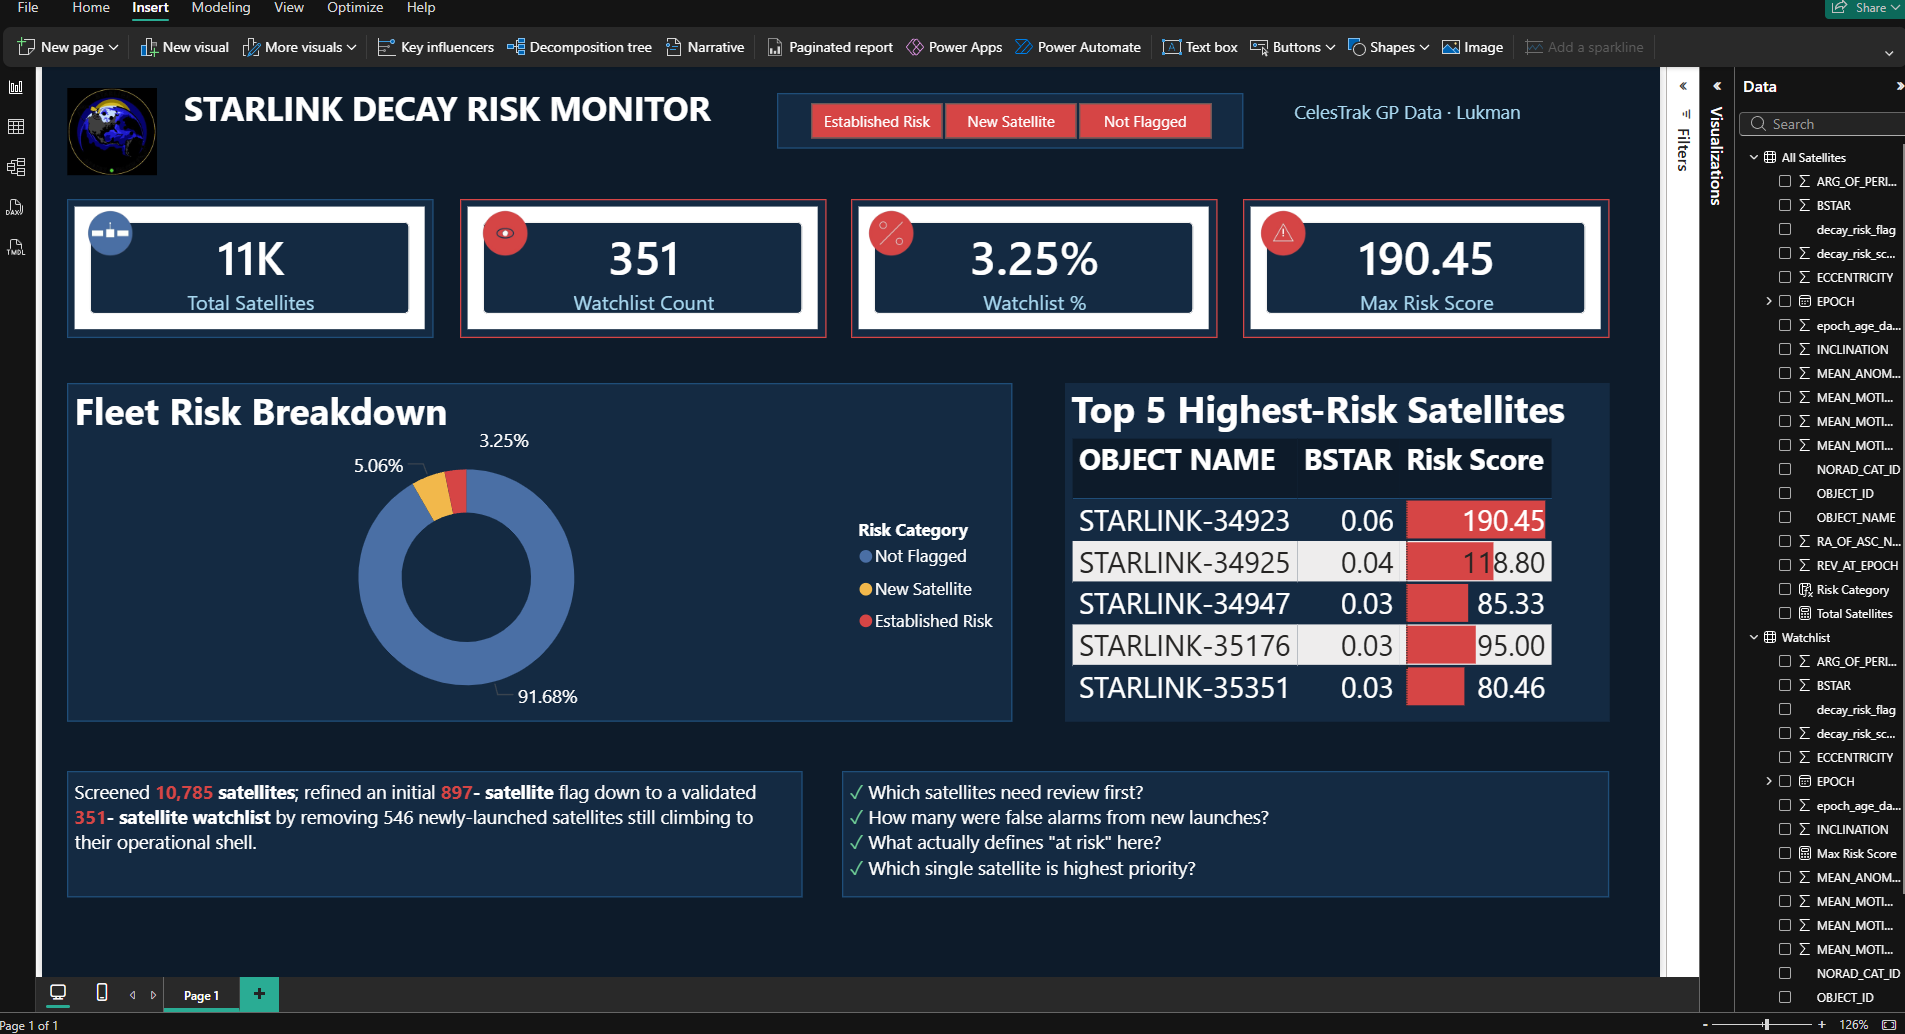

This screenshot's page, from the dashboard's own definition file:
{"tool":"powerbi","page":{"name":"Page 1","canvas":[1280,720],"ordinal":0},"visuals":[{"type":"cardVisual","fields":{"Data":["All Satellites.Total Satellites"]},"box":[19.5,104.1,289.8,109.9],"z":0},{"type":"cardVisual","fields":{"Data":["Watchlist.Watchlist Count"]},"box":[330.7,104.1,289.8,109.9],"z":1000},{"type":"cardVisual","fields":{"Data":["Watchlist.Watchlist %"]},"box":[640,104.1,289.8,109.9],"z":2000},{"type":"cardVisual","fields":{"Data":["Watchlist.Max Risk Score"]},"box":[950.3,104.1,289.8,109.9],"z":3000},{"type":"donutChart","title":"Fleet Risk Breakdown","fields":{"Category":["All Satellites.Risk Category"],"Y":["CountNonNull(All Satellites.OBJECT_NAME)"]},"box":[19.5,250,748,268.4],"z":4000},{"type":"tableEx","title":"Top 5 Highest-Risk Satellites","fields":{"Values":["Watchlist.OBJECT_NAME","Sum(Watchlist.BSTAR)","Sum(Watchlist.decay_risk_score)"]},"box":[809.2,250,430.9,268.4],"z":5000},{"type":"textbox","box":[19.5,557.3,581.6,100.2],"z":6000},{"type":"textbox","box":[633.2,557.3,606.9,100.2],"z":7000},{"type":"textbox","box":[20.4,8.8,600.1,47.7],"z":8000},{"type":"textbox","box":[900,20,359.9,31.1],"z":9000},{"type":"image","box":[34,111.9,39.9,39.9],"z":13000},{"type":"image","box":[651.7,111.9,39.9,39.9],"z":14000},{"type":"image","box":[961.9,111.9,39.9,39.9],"z":14500},{"type":"image","box":[346.3,111.9,39.9,39.9],"z":15000},{"type":"textbox","box":[341,279.3,49.8,31.6],"z":16001},{"type":"slicer","fields":{"Values":["All Satellites.Risk Category"]},"box":[581.6,20.4,368.6,43.8],"z":16002},{"type":"image","box":[0,16.5,110.9,69.1],"z":16003}]}

Visuals, with their boxes in screenshot pixels (x1, y1, x2, y2):
cardVisual - All Satellites.Total Satellites: bbox=[32, 107, 427, 257]
cardVisual - Watchlist.Watchlist Count: bbox=[456, 107, 851, 257]
cardVisual - Watchlist.Watchlist %: bbox=[877, 107, 1273, 257]
cardVisual - Watchlist.Max Risk Score: bbox=[1300, 107, 1696, 257]
"Fleet Risk Breakdown" donutChart: bbox=[32, 306, 1051, 672]
"Top 5 Highest-Risk Satellites" tableEx: bbox=[1108, 306, 1696, 672]
textbox: bbox=[32, 725, 824, 862]
textbox: bbox=[868, 725, 1696, 862]
textbox: bbox=[33, 0, 851, 42]
textbox: bbox=[1232, 0, 1723, 35]
image: bbox=[51, 118, 106, 172]
image: bbox=[893, 118, 948, 172]
image: bbox=[1316, 118, 1371, 172]
image: bbox=[477, 118, 531, 172]
textbox: bbox=[470, 346, 538, 389]
slicer - All Satellites.Risk Category: bbox=[798, 0, 1300, 53]
image: bbox=[5, 0, 156, 82]
